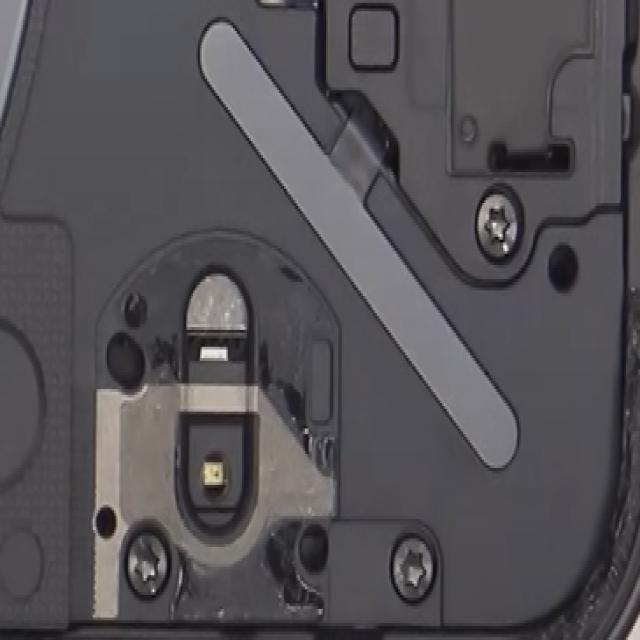Torx: (476, 187, 522, 259), (124, 526, 170, 596), (391, 534, 435, 600)
